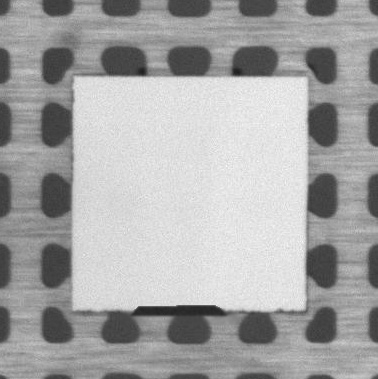DIE_BROKEN: (127, 303, 228, 316)
